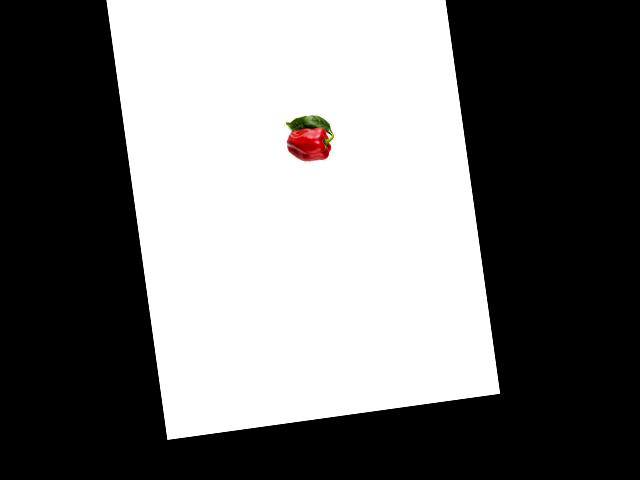bell_pepper: (283, 122, 337, 168)
